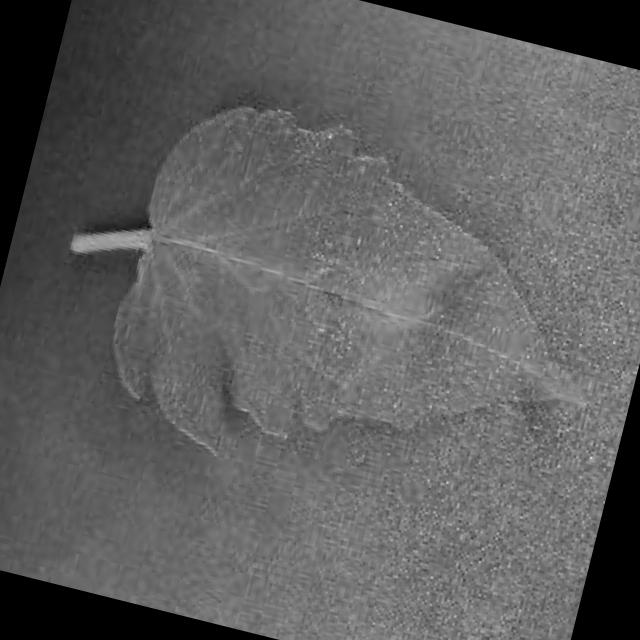healthy: (70, 107, 591, 460)
